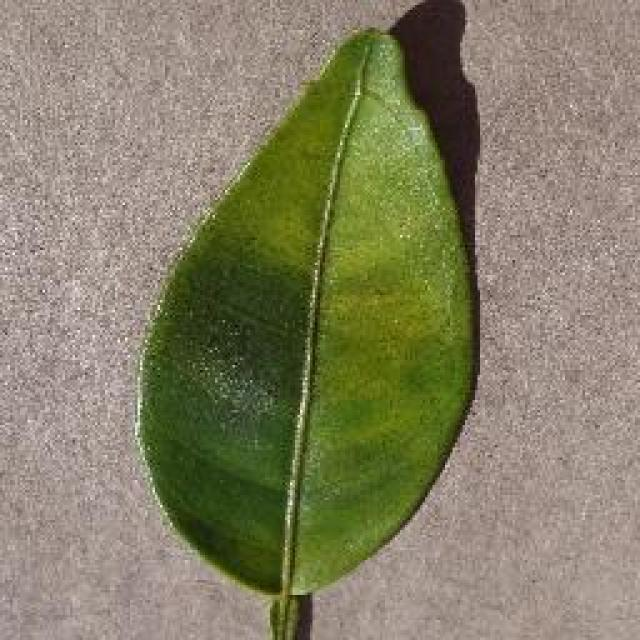Orange_Haunglongbing_Citrus_greening: (126, 80, 488, 578)
